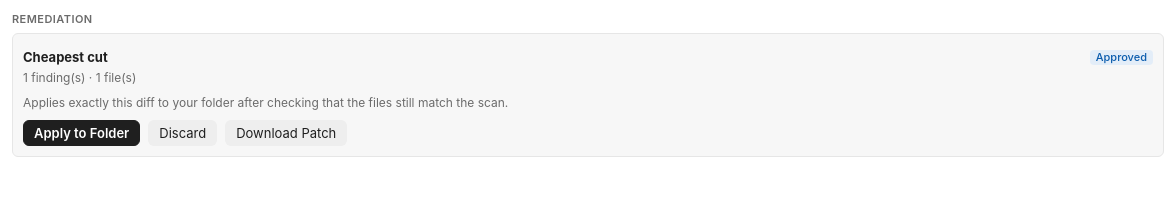
Scenario: code remediation card › shows the reason next to the button when applying is refused, and does not pretend it worked
What coordinates should you click on to do the following:
click the button "Apply to Folder"
I would click on:
 (82, 133)
Its box is [23,120,140,146].
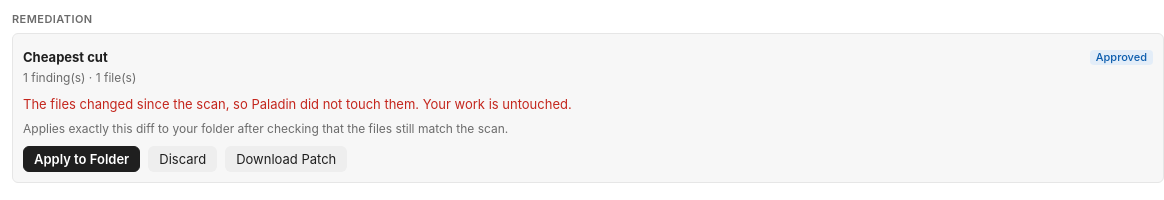
Check: the button "Apply to Folder" is enabled, box [23,146,140,172]
Check: the message shows "Your work is untouched", box [23,96,572,112]
